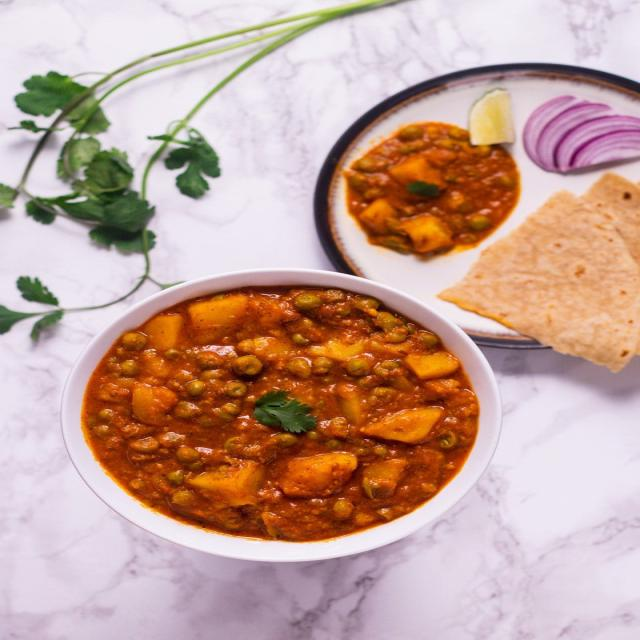aloo_matar: (74, 288, 464, 550)
chapati: (440, 191, 639, 371)
